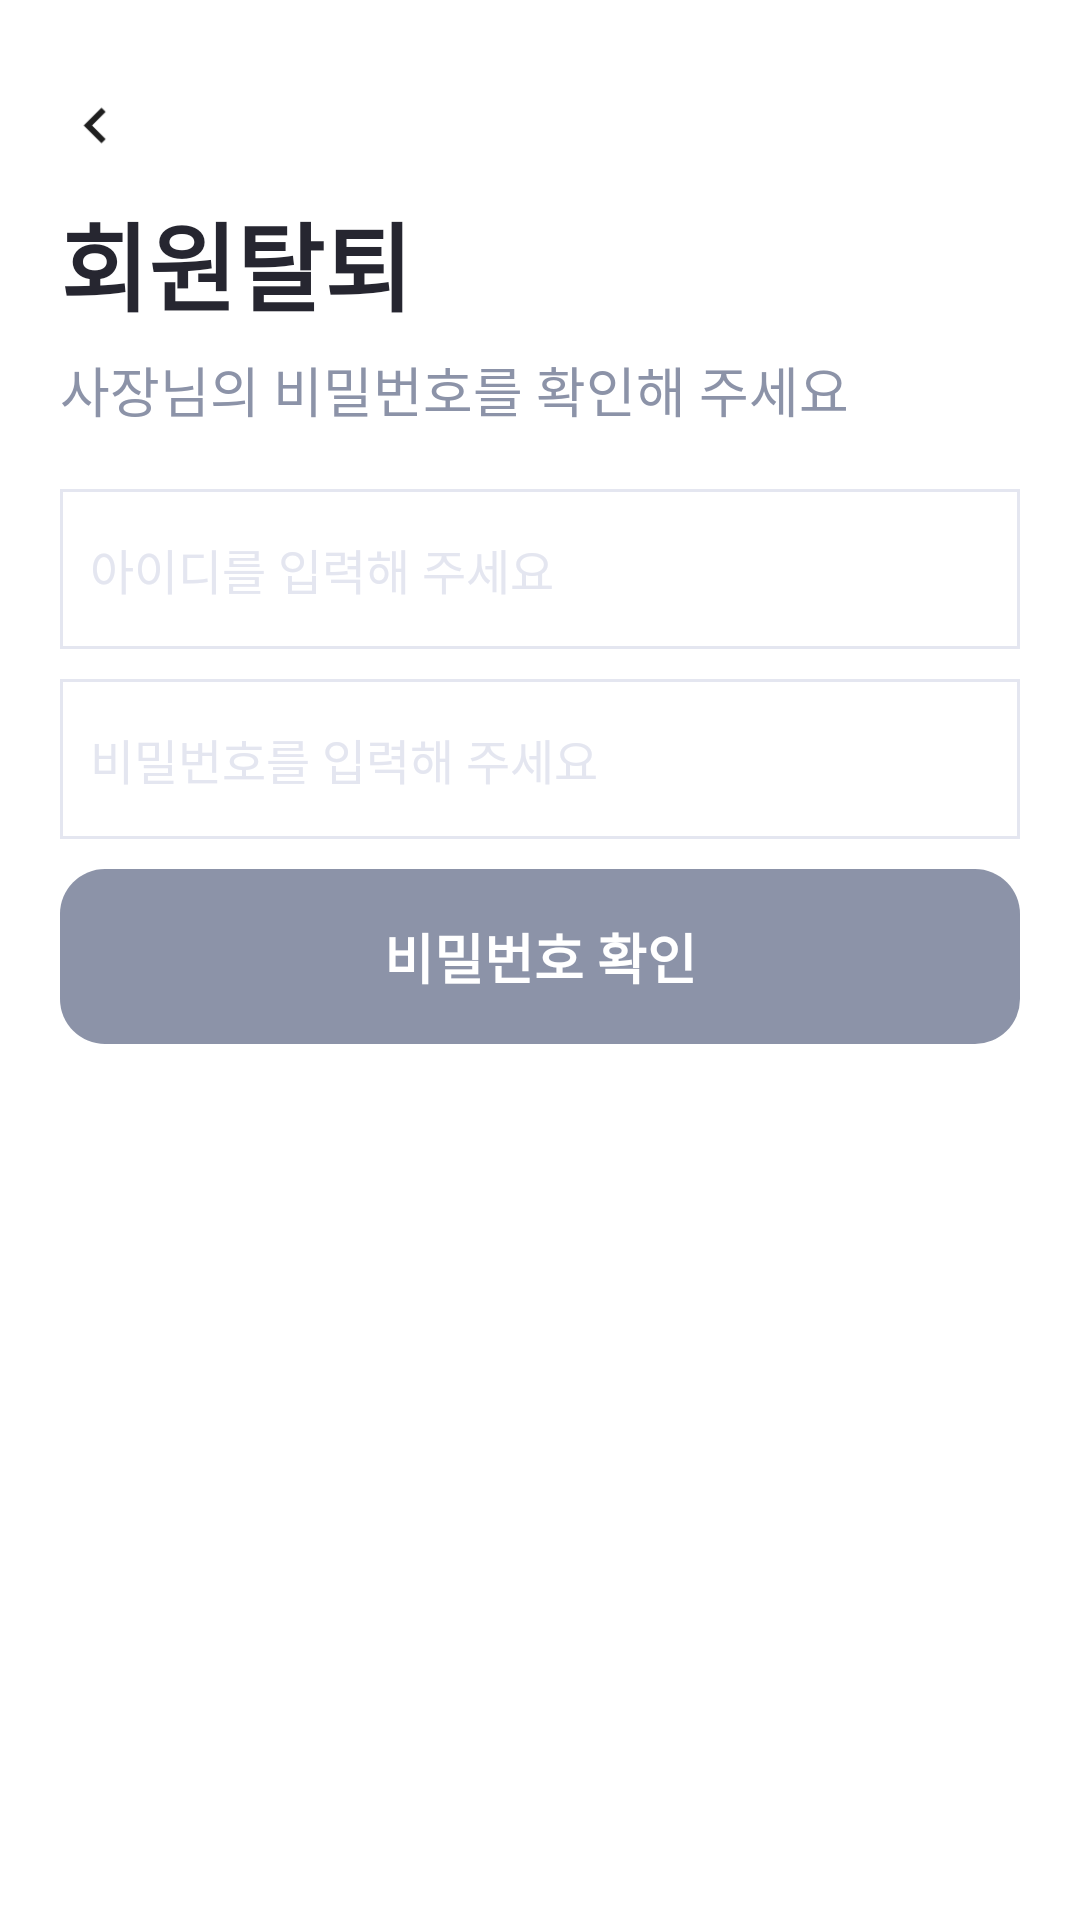

Named icons in this screenshot (1080px x 1920px) and their bounding boxes, (x1, y1, x2, y2):
back: (83, 107, 106, 144)
